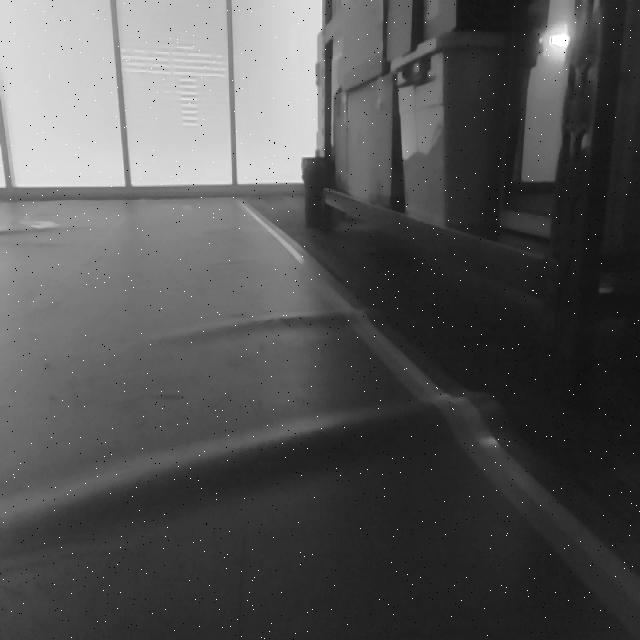left_lane: (1, 198, 131, 345)
right_lane: (238, 197, 638, 634)
